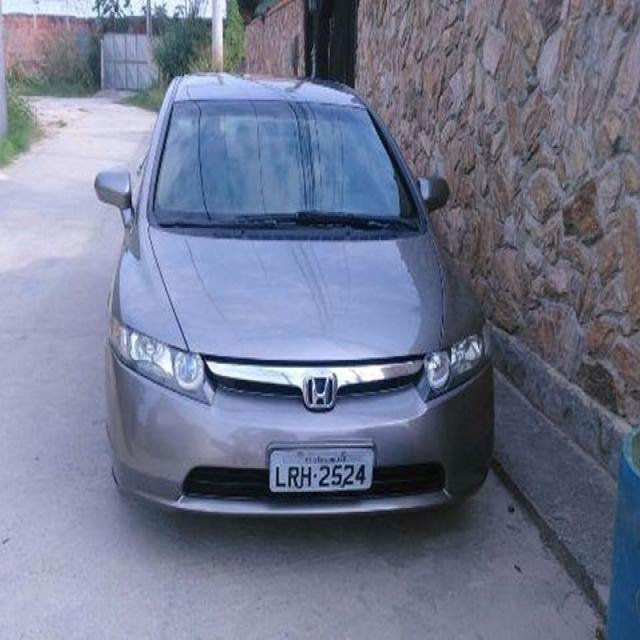Placa: (267, 445, 377, 496)
